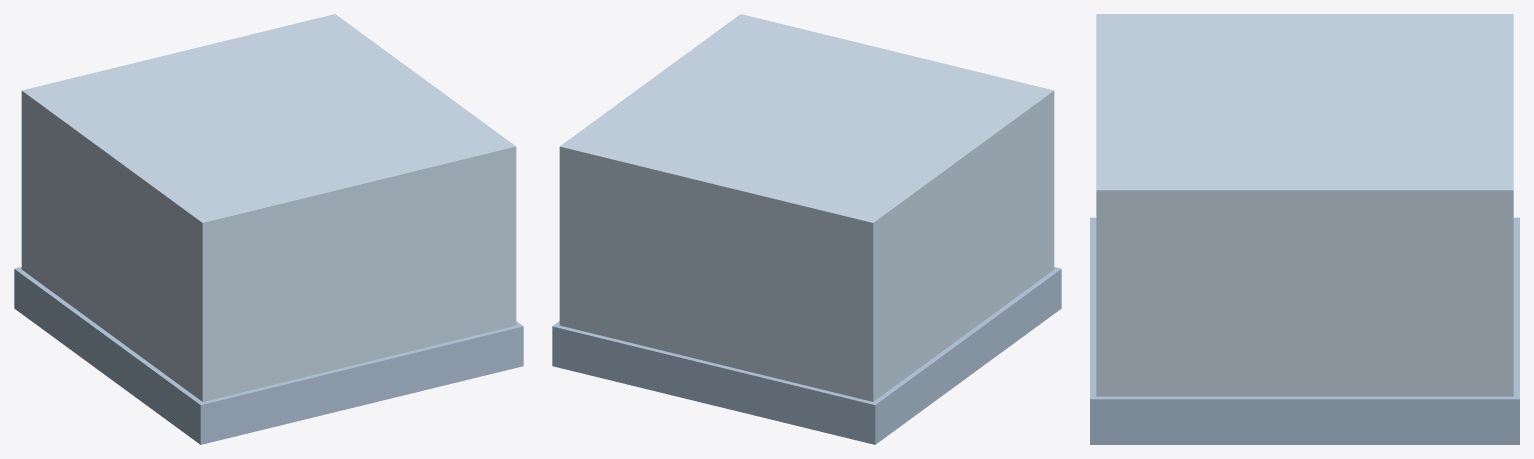
File: roupao_manga_inf.glb
3 renders of one model, left to right at view 1: azimuth 30°, elevation 25°; view 2: azimuth 150°, elevation 25°; view 3: azimuth 270°, elevation 25°, orthographic. The views are drawn at different scales.
Parts seen in each view (by area): view 1: roupao_manga_inf; view 2: roupao_manga_inf; view 3: roupao_manga_inf.
Boxes of the visible parts, bbox=[...] form: roupao_manga_inf: bbox=[14, 14, 523, 444]; roupao_manga_inf: bbox=[552, 14, 1061, 444]; roupao_manga_inf: bbox=[1090, 14, 1519, 444].
Size of the model in its own units: 0.34 by 0.22 by 0.34.
